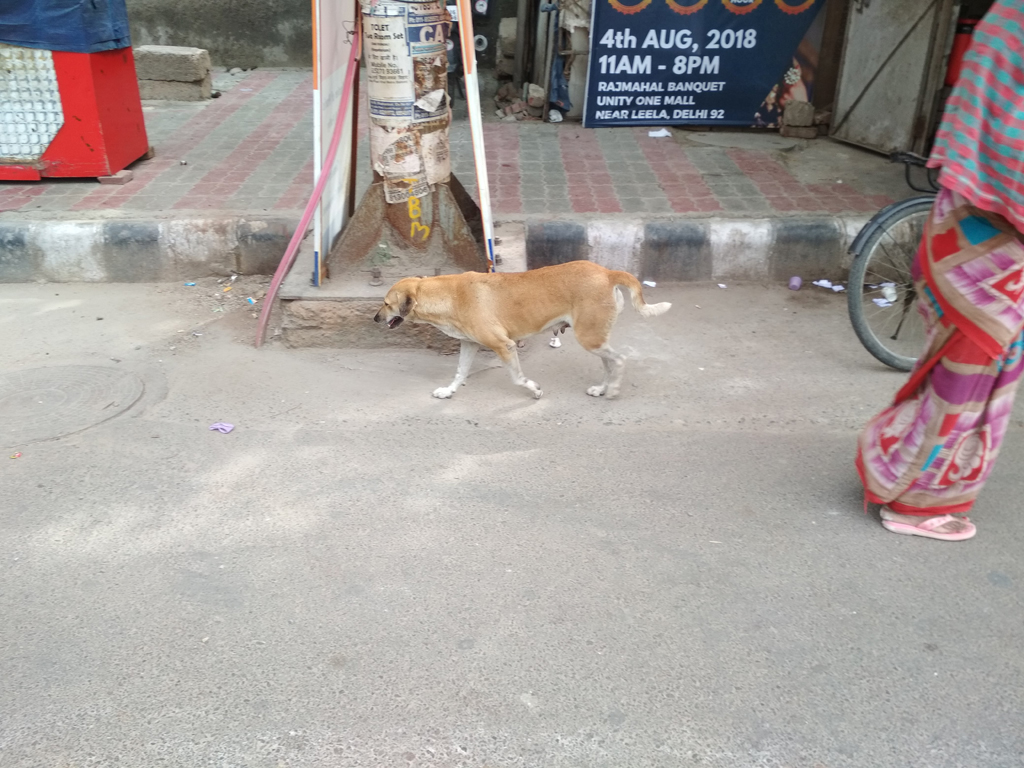dog: (375, 261, 672, 398)
